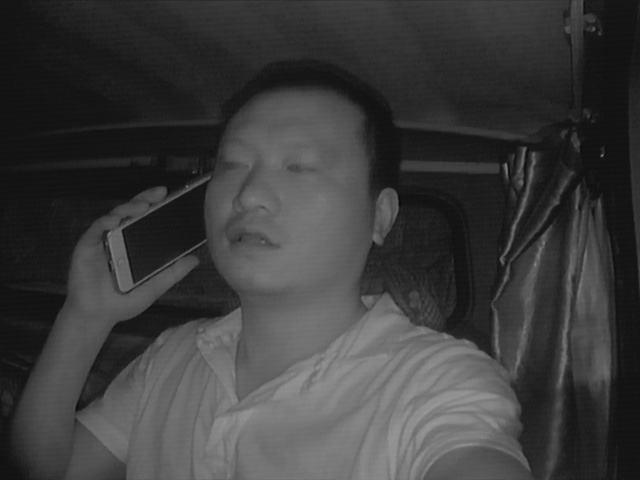hand: (67, 185, 195, 316)
